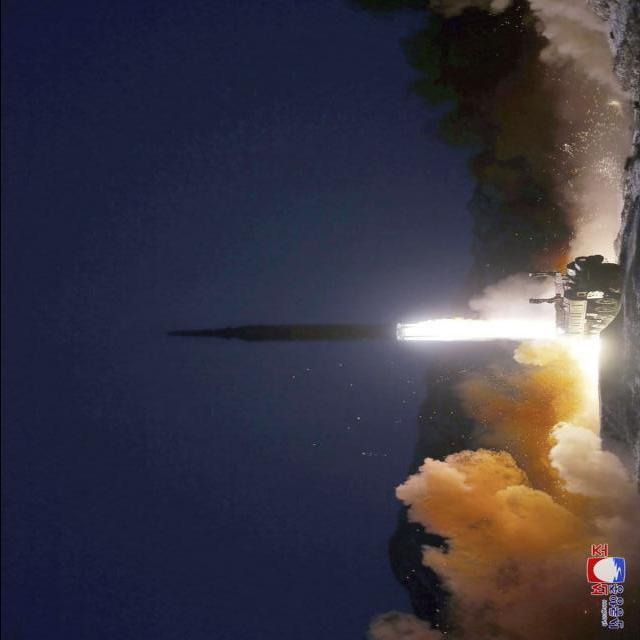missile: (159, 318, 399, 348)
